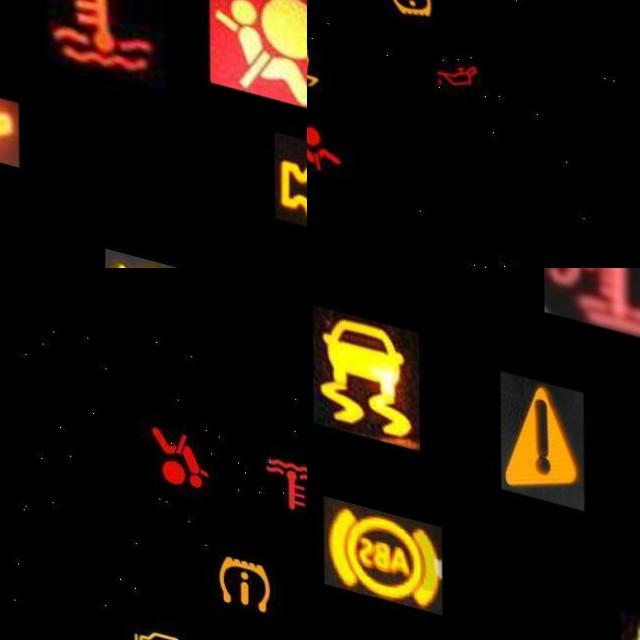Central Warning lamp: (500, 352, 584, 488)
Engine cooling system: (45, 0, 164, 71), (543, 268, 640, 315)
